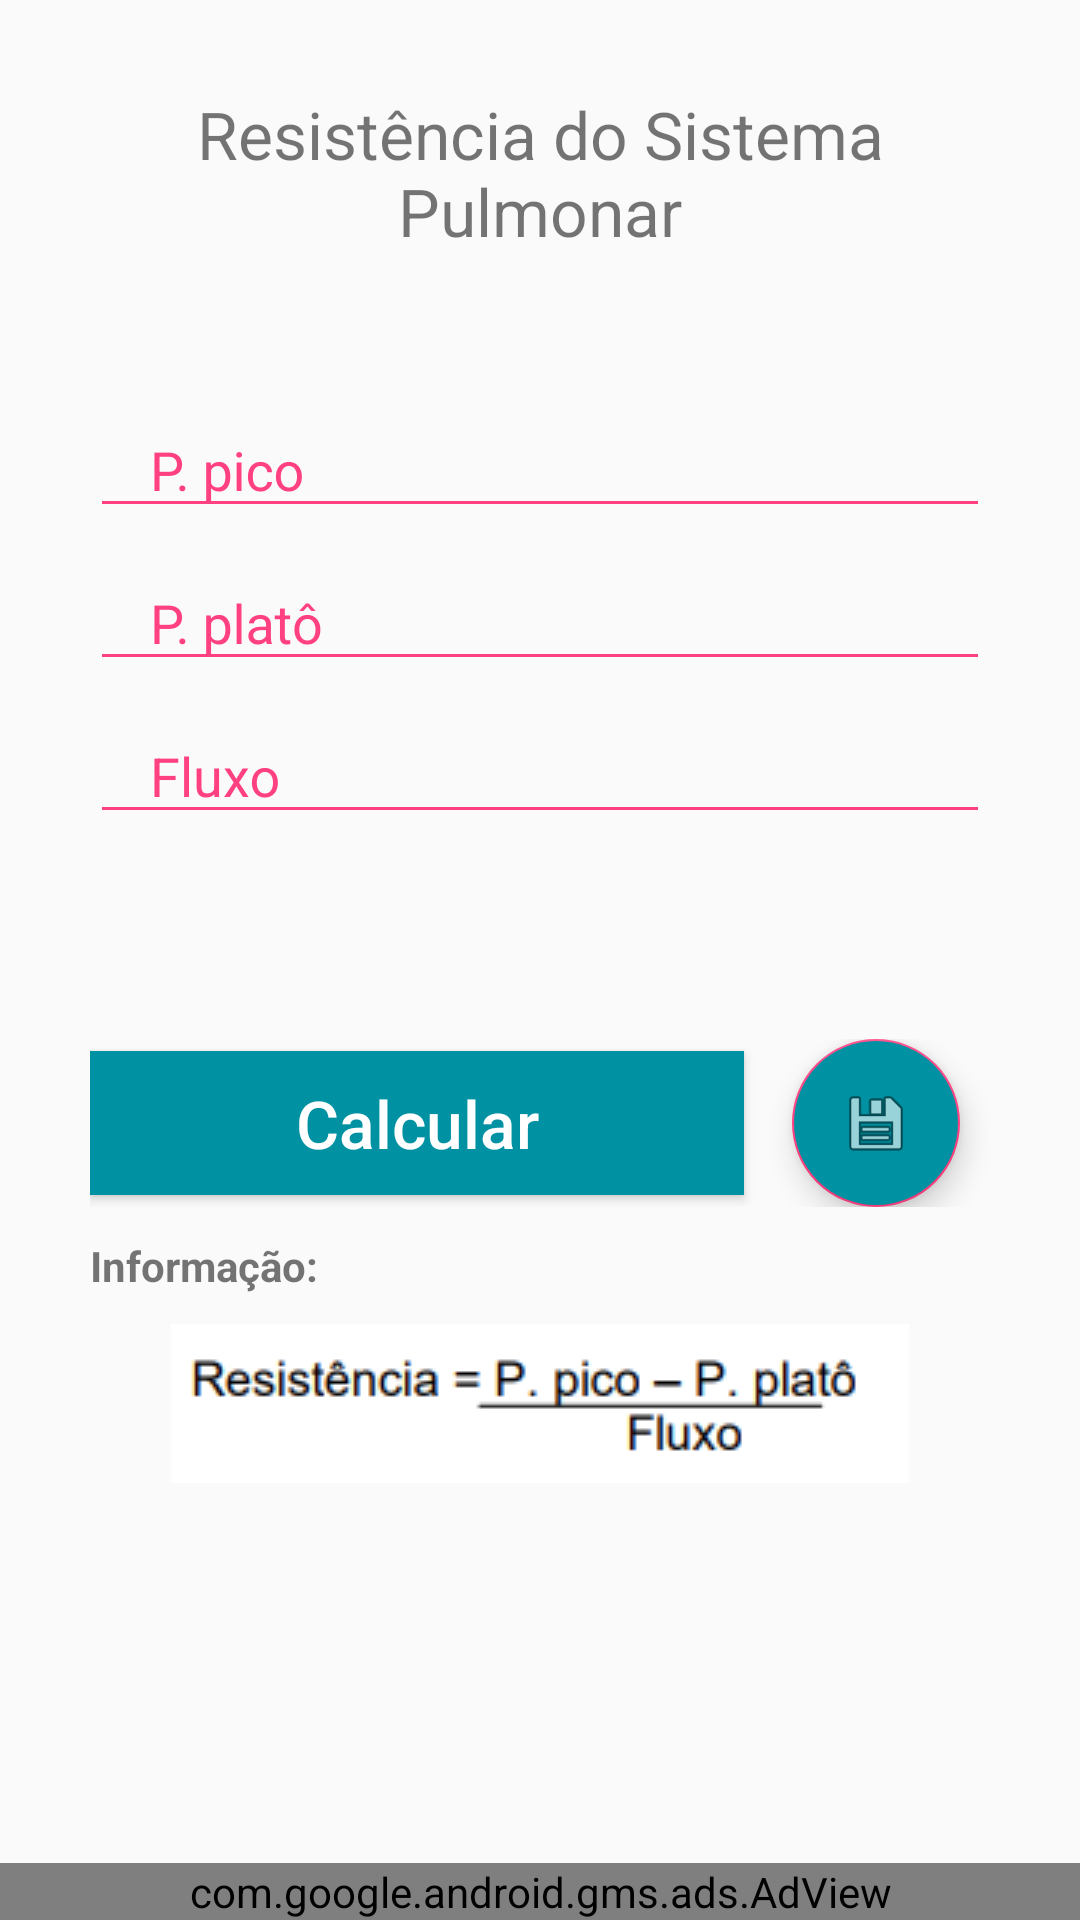

Screen size 1080px×1920px. Icon name, then its box in pixels as (x1, y1, x2, y2):
save: (792, 1039, 960, 1207)
